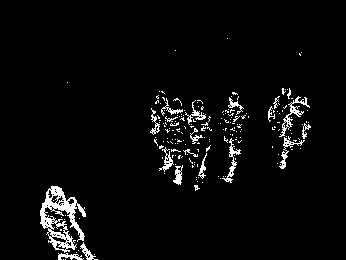person: (41, 184, 95, 260), (220, 88, 249, 187), (148, 90, 176, 174), (187, 97, 209, 192), (284, 95, 309, 170), (167, 98, 188, 186), (268, 85, 292, 162)
